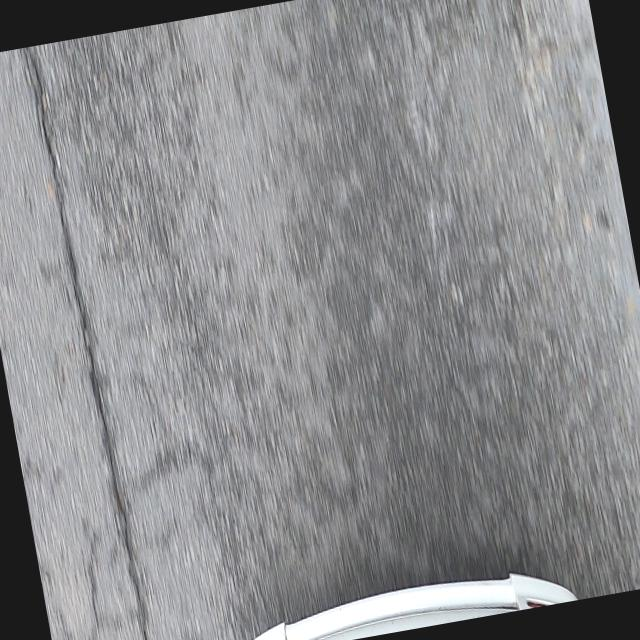Retak-Memanjang: (27, 51, 150, 640)
